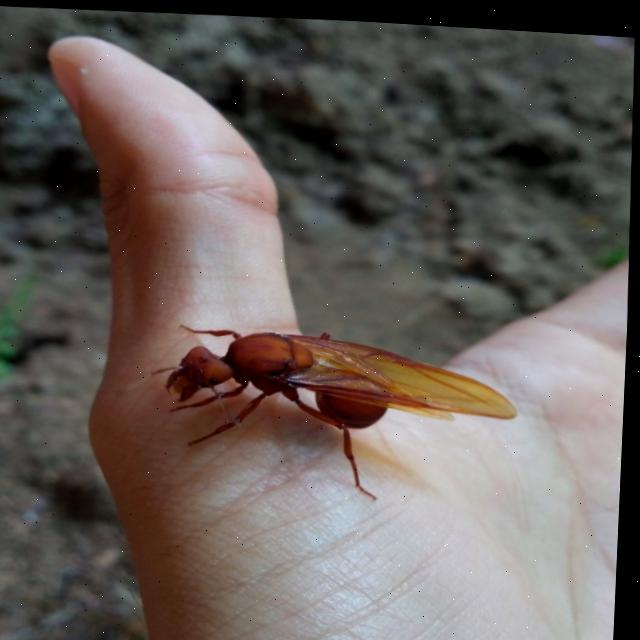Alive-Female-Alate: (113, 312, 526, 509)
